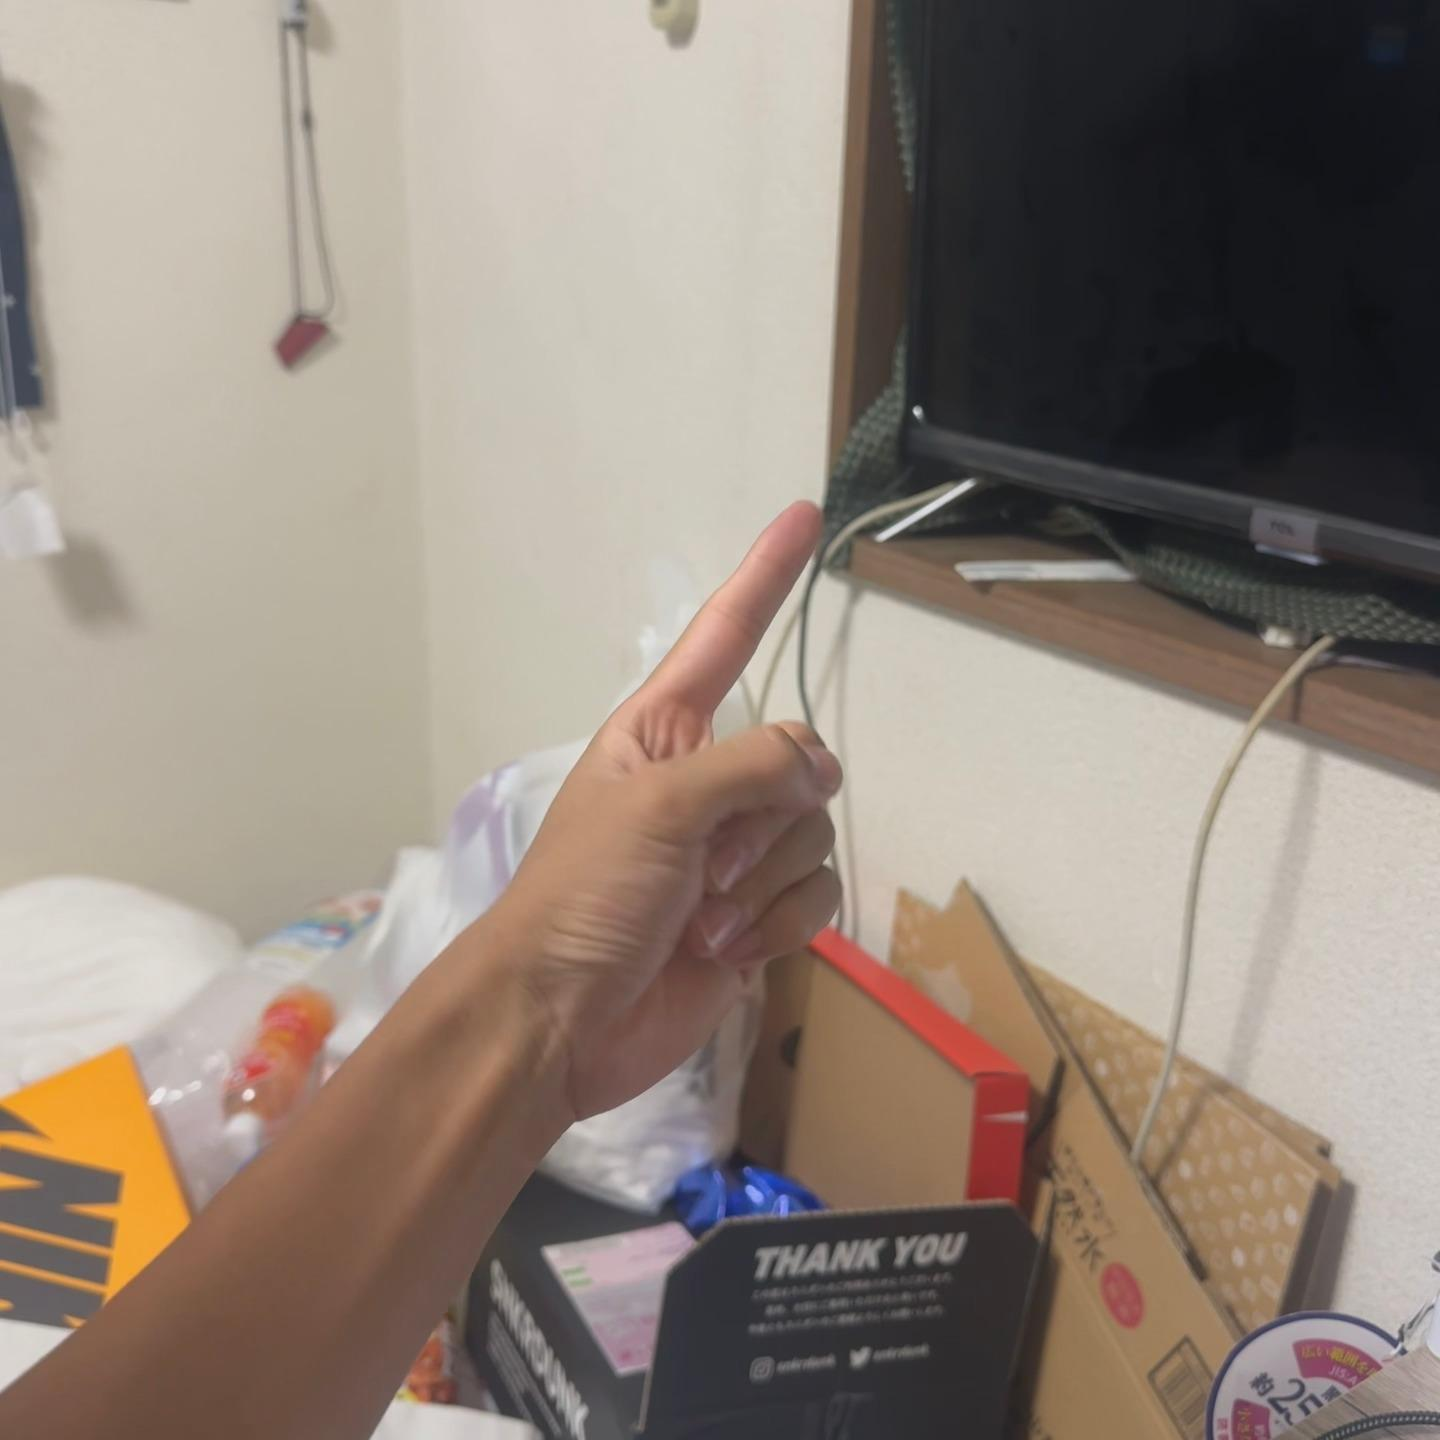without_gloves: (440, 345, 992, 1386)
